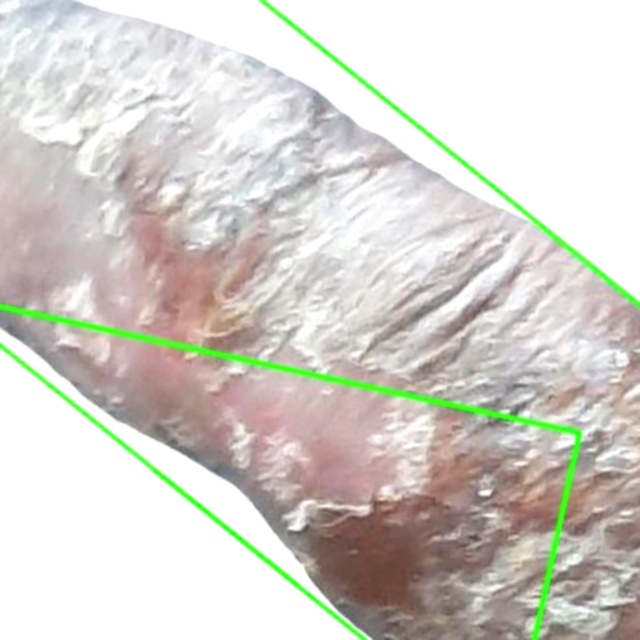Eczema: (0, 0, 639, 639), (0, 308, 580, 639)
